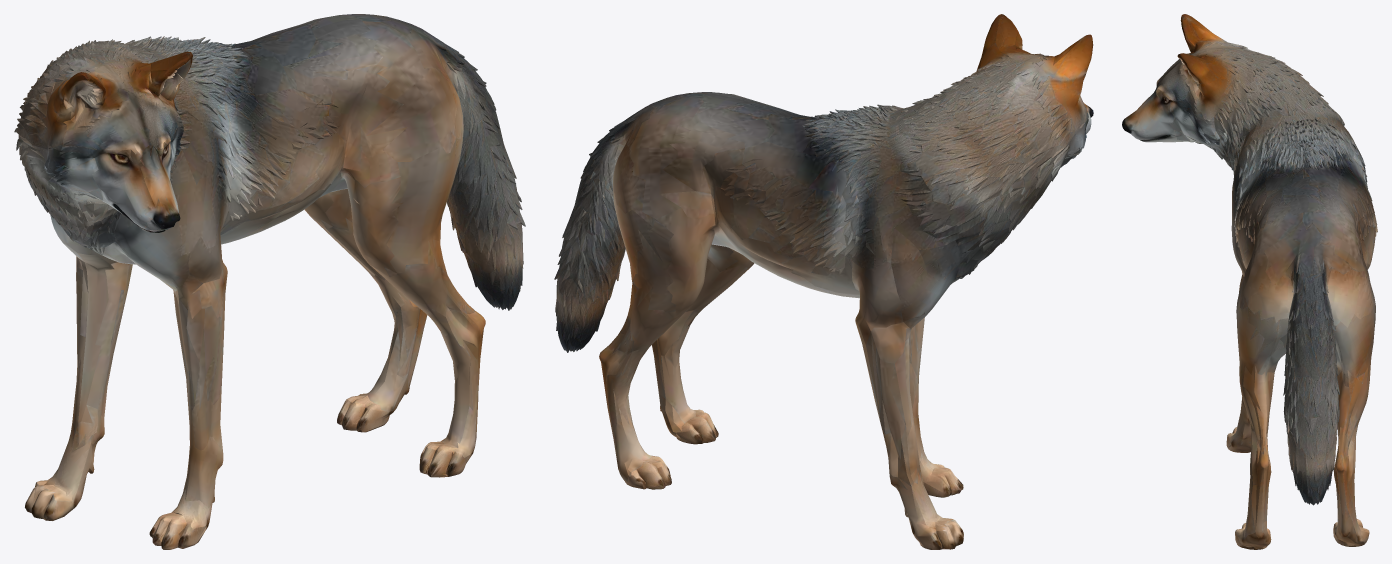
File: wolf.glb
The picture shows the model from 3 angles, left to right: view 1: azimuth 30°, elevation 25°; view 2: azimuth 150°, elevation 25°; view 3: azimuth 270°, elevation 25°; orthographic projection. The views are drawn at different scales.
Bounding box in the file's own units: 1.9 × 1.78 × 1.07.
Materials: 1 (1 with a texture image).
